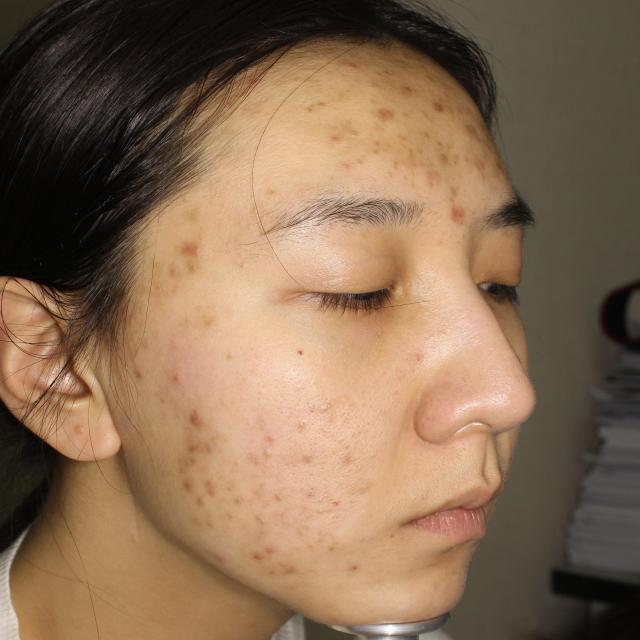acne: (172, 229, 213, 262), (441, 200, 478, 230), (363, 102, 407, 127), (457, 115, 489, 145), (164, 363, 199, 390), (418, 164, 450, 193), (316, 125, 354, 149), (382, 77, 418, 99), (175, 453, 207, 477), (160, 258, 191, 281), (174, 407, 205, 429), (420, 134, 450, 156), (180, 431, 210, 452), (278, 560, 306, 580), (250, 543, 273, 567), (127, 361, 150, 383), (172, 474, 193, 494), (336, 55, 353, 78), (464, 154, 484, 167), (208, 478, 221, 493)
